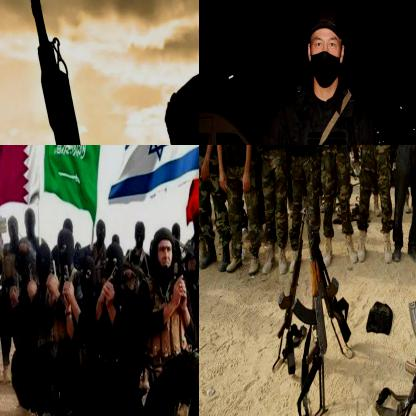pistol: (102, 264, 121, 302), (62, 264, 74, 307)
rifle: (21, 0, 108, 144), (302, 212, 334, 415), (314, 229, 353, 347), (395, 230, 415, 415), (278, 210, 306, 338), (310, 145, 356, 181)
